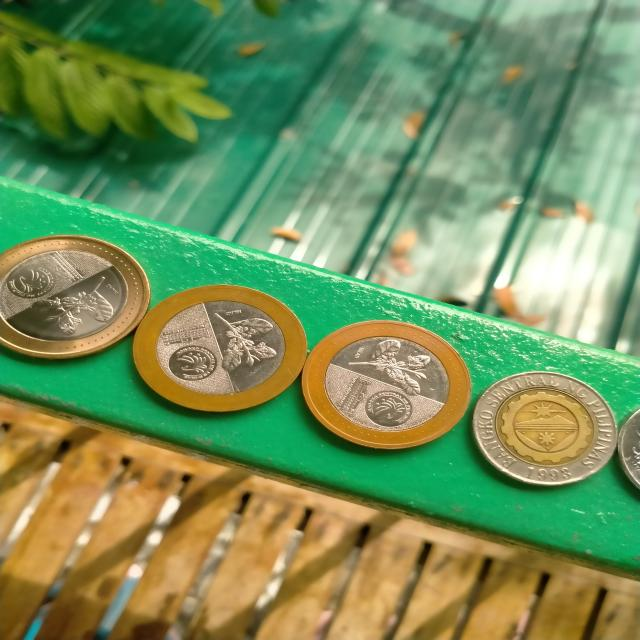10_Old_Back: (475, 372, 616, 488)
20_New_Back: (326, 334, 442, 396), (211, 299, 283, 380), (28, 276, 116, 335)
